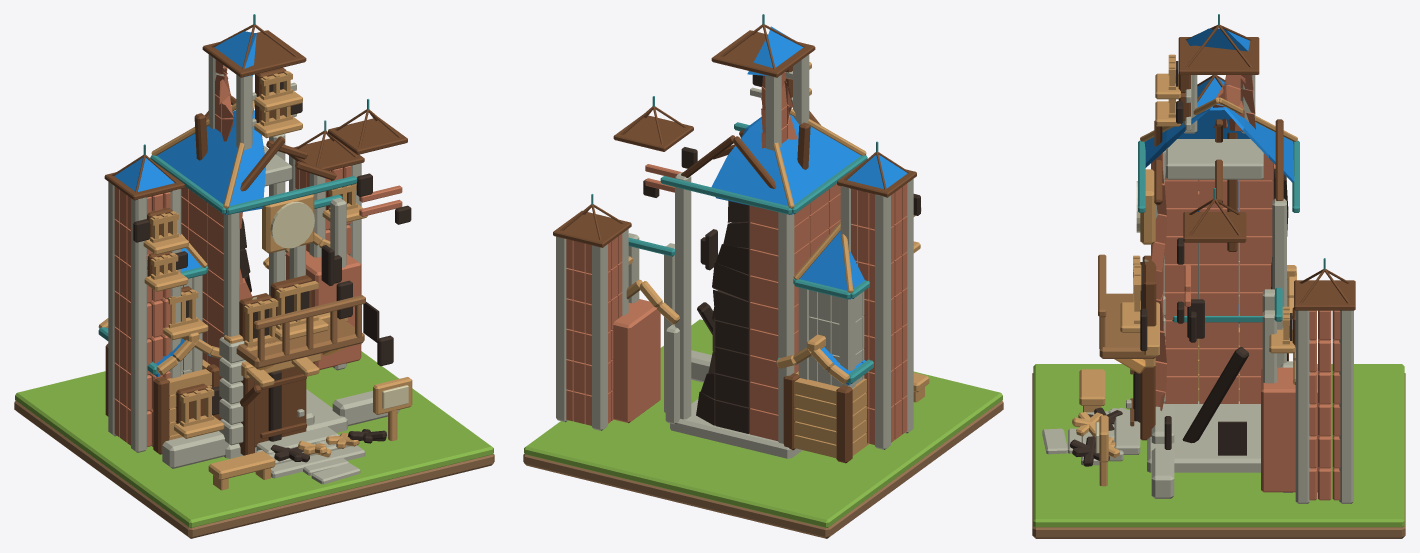
The model's file is town_hall_l13_damaged_LOD0.glb.
3 views of the same model, side by side, from view 1: azimuth 30°, elevation 25°; view 2: azimuth 150°, elevation 25°; view 3: azimuth 270°, elevation 25° (orthographic). The views are drawn at different scales.
Visible parts, largest first — view 1: town_hall_l13_damaged_grass_tile, town_hall_l13_damaged_earth_tile, town_hall_l13_damaged_corner_reinforcement.024, town_hall_l13_damaged_vertical_corner_connector, town_hall_l13_damaged_premium_balcony_floor, town_hall_l13_damaged_hip_roof_shingle.011, town_hall_l13_damaged_corner_reinforcement, town_hall_l13_damaged_door_recess, town_hall_l13_damaged_central_spire_cornice, town_hall_l13_damaged_corner_reinforcement.025, town_hall_l13_damaged_stone_foundation_course, town_hall_l13_damaged_right_spire_cornice (+36 smaller); view 2: town_hall_l13_damaged_grass_tile, town_hall_l13_damaged_earth_tile, town_hall_l13_damaged_vertical_corner_connector, town_hall_l13_damaged_corner_reinforcement.025, town_hall_l13_damaged_corner_reinforcement.003, town_hall_l13_damaged_corner_reinforcement.001, town_hall_l13_damaged_corner_reinforcement.033, town_hall_l13_damaged_hip_roof_shingle.011, town_hall_l13_damaged_hip_roof_shingle.008, town_hall_l13_damaged_foundation, town_hall_l13_damaged_corner_reinforcement.035, town_hall_l13_damaged_central_spire_cornice (+43 smaller); view 3: town_hall_l13_damaged_grass_tile, town_hall_l13_damaged_earth_tile, town_hall_l13_damaged_foundation, town_hall_l13_damaged_vertical_corner_connector, town_hall_l13_damaged_surviving_tower_course, town_hall_l13_damaged_corner_reinforcement.034, town_hall_l13_damaged_corner_reinforcement.035, town_hall_l13_damaged_central_spire_cornice, town_hall_l13_damaged_right_spire_cornice, town_hall_l13_damaged_premium_balcony_floor, town_hall_l13_damaged_rear_right_spire_cornice, town_hall_l13_damaged_corner_reinforcement.003 (+57 smaller).
Boxes of the visible parts, <box> form: town_hall_l13_damaged_grass_tile: <box>15,351,493,527</box>; town_hall_l13_damaged_earth_tile: <box>14,400,494,538</box>; town_hall_l13_damaged_corner_reinforcement.024: <box>131,197,147,452</box>; town_hall_l13_damaged_vertical_corner_connector: <box>285,250,361,369</box>; town_hall_l13_damaged_premium_balcony_floor: <box>236,318,364,368</box>; town_hall_l13_damaged_hip_roof_shingle.011: <box>157,138,231,214</box>; town_hall_l13_damaged_corner_reinforcement: <box>223,212,239,336</box>; town_hall_l13_damaged_door_recess: <box>255,367,306,447</box>; town_hall_l13_damaged_central_spire_cornice: <box>202,30,306,77</box>; town_hall_l13_damaged_corner_reinforcement.025: <box>108,182,116,436</box>; town_hall_l13_damaged_stone_foundation_course: <box>162,431,228,468</box>; town_hall_l13_damaged_right_spire_cornice: <box>328,117,407,154</box>; town_hall_l13_damaged_grass_tile: <box>524,319,1002,527</box>; town_hall_l13_damaged_earth_tile: <box>523,400,1003,538</box>; town_hall_l13_damaged_vertical_corner_connector: <box>612,299,660,423</box>; town_hall_l13_damaged_corner_reinforcement.025: <box>874,194,890,449</box>; town_hall_l13_damaged_corner_reinforcement.003: <box>675,172,691,419</box>; town_hall_l13_damaged_corner_reinforcement.001: <box>778,212,794,443</box>; town_hall_l13_damaged_corner_reinforcement.033: <box>591,244,607,430</box>; town_hall_l13_damaged_hip_roof_shingle.011: <box>786,138,860,214</box>; town_hall_l13_damaged_hip_roof_shingle.008: <box>711,156,791,214</box>; town_hall_l13_damaged_foundation: <box>670,399,802,458</box>; town_hall_l13_damaged_corner_reinforcement.035: <box>556,236,567,422</box>; town_hall_l13_damaged_central_spire_cornice: <box>711,30,815,77</box>; town_hall_l13_damaged_grass_tile: <box>1033,364,1404,527</box>; town_hall_l13_damaged_earth_tile: <box>1032,373,1405,538</box>; town_hall_l13_damaged_foundation: <box>1147,401,1260,472</box>; town_hall_l13_damaged_vertical_corner_connector: <box>1261,367,1318,492</box>; town_hall_l13_damaged_surviving_tower_course: <box>1166,139,1263,179</box>; town_hall_l13_damaged_corner_reinforcement.034: <box>1295,310,1310,503</box>; town_hall_l13_damaged_corner_reinforcement.035: <box>1339,310,1353,503</box>; town_hall_l13_damaged_central_spire_cornice: <box>1178,37,1259,74</box>; town_hall_l13_damaged_right_spire_cornice: <box>1183,212,1246,242</box>; town_hall_l13_damaged_premium_balcony_floor: <box>1099,293,1156,358</box>; town_hall_l13_damaged_rear_right_spire_cornice: <box>1294,280,1355,310</box>; town_hall_l13_damaged_corner_reinforcement.003: <box>1272,198,1286,367</box>.
Bounding box in the file's own units: 3.6 × 4.76 × 3.6.
